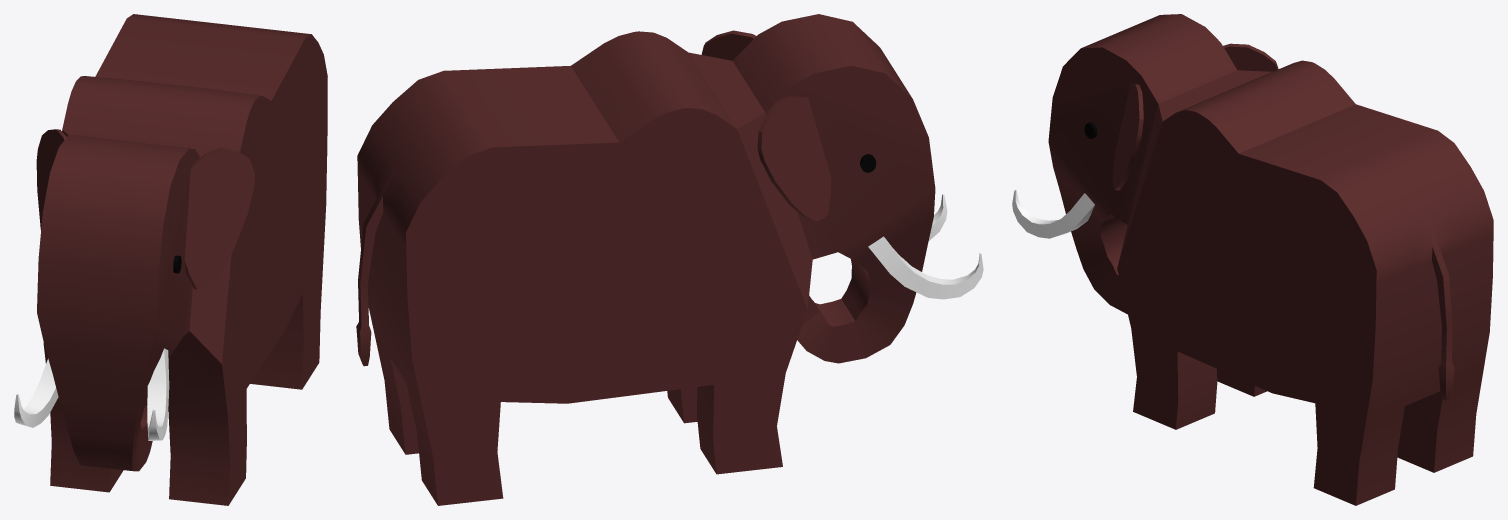
Rendered from mammoth.fbx.
3 views of the same model, side by side, from view 1: azimuth 30°, elevation 25°; view 2: azimuth 150°, elevation 25°; view 3: azimuth 270°, elevation 25° (orthographic). The views are drawn at different scales.
Parts seen in each view (by area): view 1: Plane.134, Plane.135, Cube.6239; view 2: Plane.134, Plane.135, Cube.6239; view 3: Plane.134, Plane.135, Cube.6239.
Boxes of the visible parts, bbox=[...] form: Plane.134: bbox=[37, 14, 327, 505]; Plane.135: bbox=[36, 129, 254, 289]; Cube.6239: bbox=[14, 348, 169, 440]; Plane.134: bbox=[356, 14, 935, 505]; Plane.135: bbox=[701, 30, 831, 221]; Cube.6239: bbox=[868, 194, 983, 299]; Plane.134: bbox=[1048, 14, 1493, 505]; Plane.135: bbox=[1112, 43, 1278, 190]; Cube.6239: bbox=[1012, 190, 1094, 238].
Bounding box in the file's own units: 236 × 181 × 236.
Materials: 1 (1 with a texture image).
